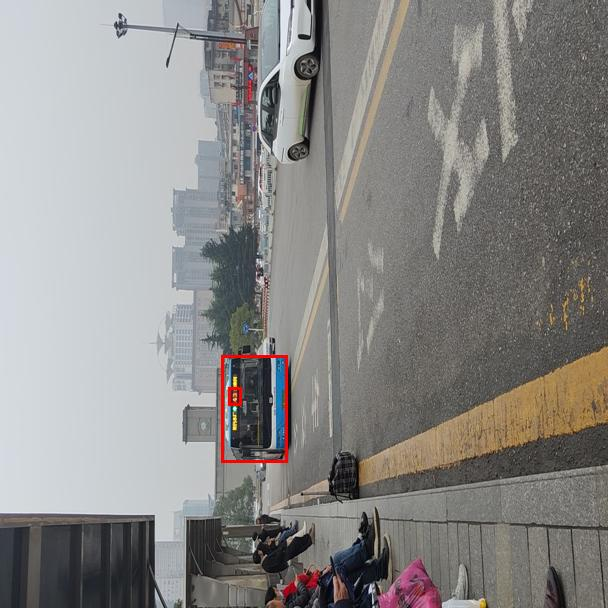bus: (221, 355, 287, 462)
screen: (228, 387, 241, 405)
